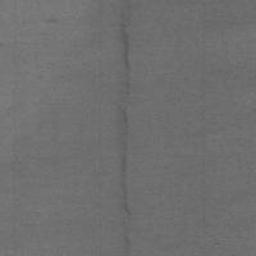Inclusion: (114, 0, 137, 256)
